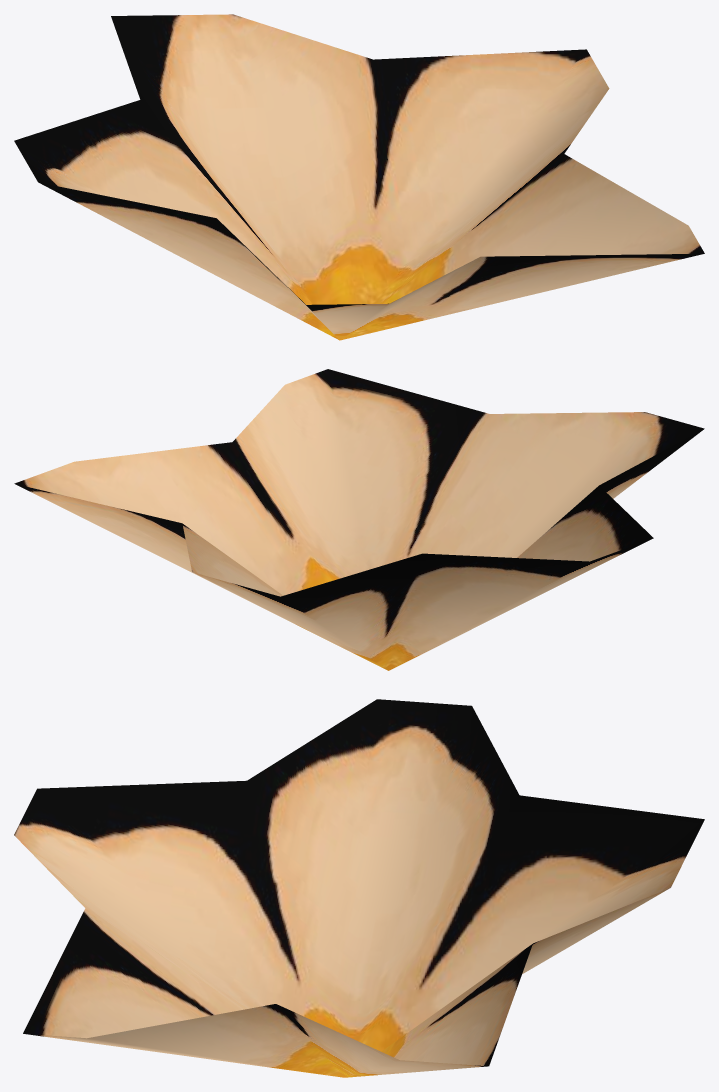
File: petal_2.gltf
The picture shows the model from 3 angles, top to bottom: view 1: azimuth 30°, elevation 25°; view 2: azimuth 150°, elevation 25°; view 3: azimuth 270°, elevation 25°; orthographic projection. The views are drawn at different scales.
Visible parts, largest first — view 1: Petal_2; view 2: Petal_2; view 3: Petal_2.
Boxes of the visible parts, bbox=[...] form: Petal_2: bbox=[14, 14, 704, 340]; Petal_2: bbox=[14, 369, 704, 670]; Petal_2: bbox=[14, 699, 704, 1077].
Bounding box in the file's own units: 0.6732 × 0.2361 × 0.6311.
1 material, 1 textured.
